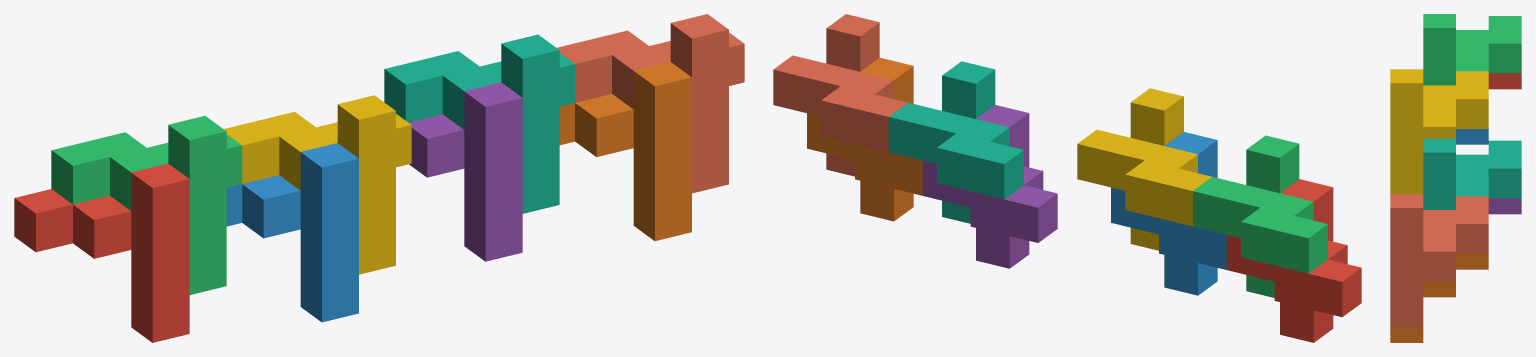
File: tiling.obj
3 views of the same model, side by side, from view 1: azimuth 30°, elevation 25°; view 2: azimuth 150°, elevation 25°; view 3: azimuth 270°, elevation 25° (orthographic). The views are drawn at different scales.
Parts seen in each view (by area): view 1: copy_1_domain_1, copy_1_domain_3, copy_1_domain_7, copy_1_domain_2, copy_1_domain_6, copy_1_domain_4, copy_1_domain_8, copy_1_domain_5; view 2: copy_1_domain_7, copy_1_domain_3, copy_1_domain_4, copy_1_domain_8, copy_1_domain_5, copy_1_domain_1, copy_1_domain_6, copy_1_domain_2; view 3: copy_1_domain_8, copy_1_domain_4, copy_1_domain_7, copy_1_domain_3, copy_1_domain_6, copy_1_domain_1, copy_1_domain_5, copy_1_domain_2.
Boxes of the visible parts, bbox=[...] form: copy_1_domain_1: bbox=[14, 163, 189, 342]; copy_1_domain_3: bbox=[51, 116, 242, 294]; copy_1_domain_7: bbox=[384, 34, 574, 213]; copy_1_domain_2: bbox=[226, 143, 358, 322]; copy_1_domain_6: bbox=[559, 61, 691, 240]; copy_1_domain_4: bbox=[224, 95, 411, 274]; copy_1_domain_8: bbox=[557, 14, 744, 193]; copy_1_domain_5: bbox=[409, 82, 522, 261]; copy_1_domain_7: bbox=[888, 61, 1023, 223]; copy_1_domain_3: bbox=[1193, 135, 1327, 297]; copy_1_domain_4: bbox=[1077, 88, 1211, 250]; copy_1_domain_8: bbox=[773, 14, 907, 176]; copy_1_domain_5: bbox=[922, 105, 1057, 268]; copy_1_domain_1: bbox=[1226, 179, 1361, 342]; copy_1_domain_6: bbox=[807, 57, 922, 221]; copy_1_domain_2: bbox=[1111, 132, 1226, 295]; copy_1_domain_8: bbox=[1390, 194, 1488, 326]; copy_1_domain_4: bbox=[1390, 69, 1488, 194]; copy_1_domain_7: bbox=[1423, 138, 1521, 209]; copy_1_domain_3: bbox=[1423, 14, 1521, 85]; copy_1_domain_6: bbox=[1390, 253, 1488, 342]; copy_1_domain_1: bbox=[1488, 73, 1521, 89]; copy_1_domain_5: bbox=[1488, 198, 1521, 214]; copy_1_domain_2: bbox=[1456, 129, 1488, 144].
Size of the model in its own units: 18 by 5 by 4.
